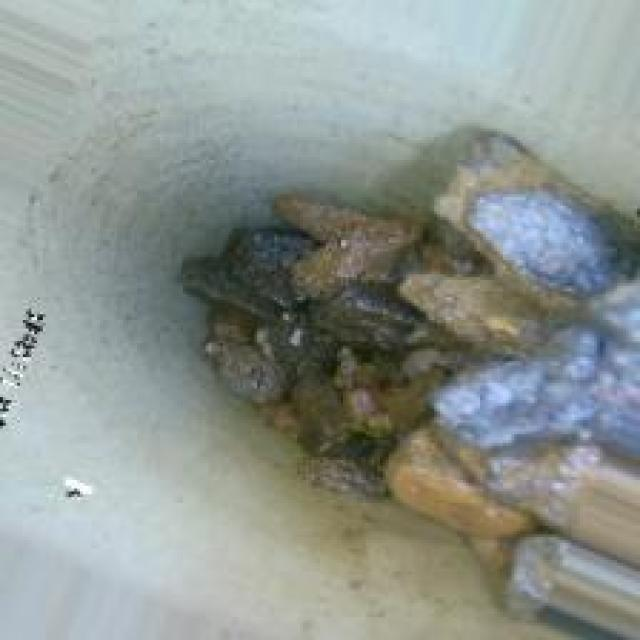stone: (206, 183, 637, 551)
